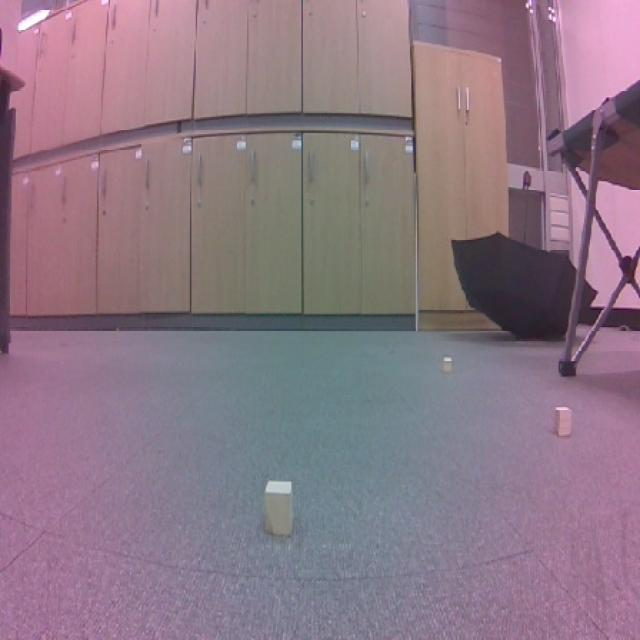obstacle: (254, 472, 304, 546), (549, 402, 582, 441)
